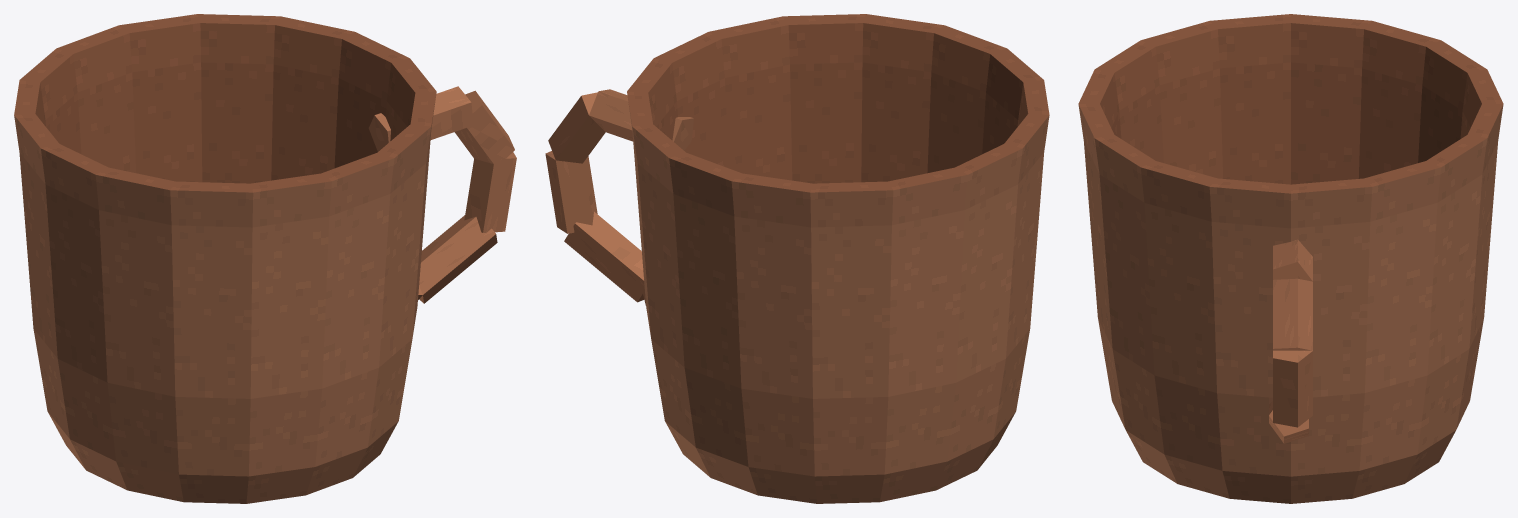
File: clay_cup.glb
3 renders of one model, left to right at view 1: azimuth 30°, elevation 25°; view 2: azimuth 150°, elevation 25°; view 3: azimuth 270°, elevation 25°, orthographic.
Visible parts, largest first — view 1: block_open clay drinking cup, block_clay cup loop handle 3, block_clay cup loop handle 2, block_clay cup loop handle 1, block_clay cup loop handle 0; view 2: block_open clay drinking cup, block_clay cup loop handle 3, block_clay cup loop handle 2, block_clay cup loop handle 1, block_clay cup loop handle 0; view 3: block_open clay drinking cup, block_clay cup loop handle 2, block_clay cup loop handle 1, block_clay cup loop handle 0, block_clay cup loop handle 3.
Part boxes in pixels (bbox=[...]): block_open clay drinking cup: bbox=[14, 14, 436, 503]; block_clay cup loop handle 3: bbox=[419, 215, 497, 303]; block_clay cup loop handle 2: bbox=[464, 152, 516, 232]; block_clay cup loop handle 1: bbox=[454, 90, 514, 167]; block_clay cup loop handle 0: bbox=[368, 86, 473, 151]; block_open clay drinking cup: bbox=[627, 14, 1049, 503]; block_clay cup loop handle 3: bbox=[564, 211, 644, 302]; block_clay cup loop handle 2: bbox=[545, 151, 597, 233]; block_clay cup loop handle 1: bbox=[548, 92, 605, 163]; block_clay cup loop handle 0: bbox=[589, 89, 693, 150]; block_open clay drinking cup: bbox=[1078, 14, 1503, 503]; block_clay cup loop handle 2: bbox=[1273, 350, 1312, 427]; block_clay cup loop handle 1: bbox=[1273, 278, 1312, 350]; block_clay cup loop handle 0: bbox=[1273, 239, 1312, 281]; block_clay cup loop handle 3: bbox=[1269, 410, 1308, 443].
Size of the model in its own units: 0.12 by 0.0806 by 0.0935.
Materials: 1 (1 with a texture image).
